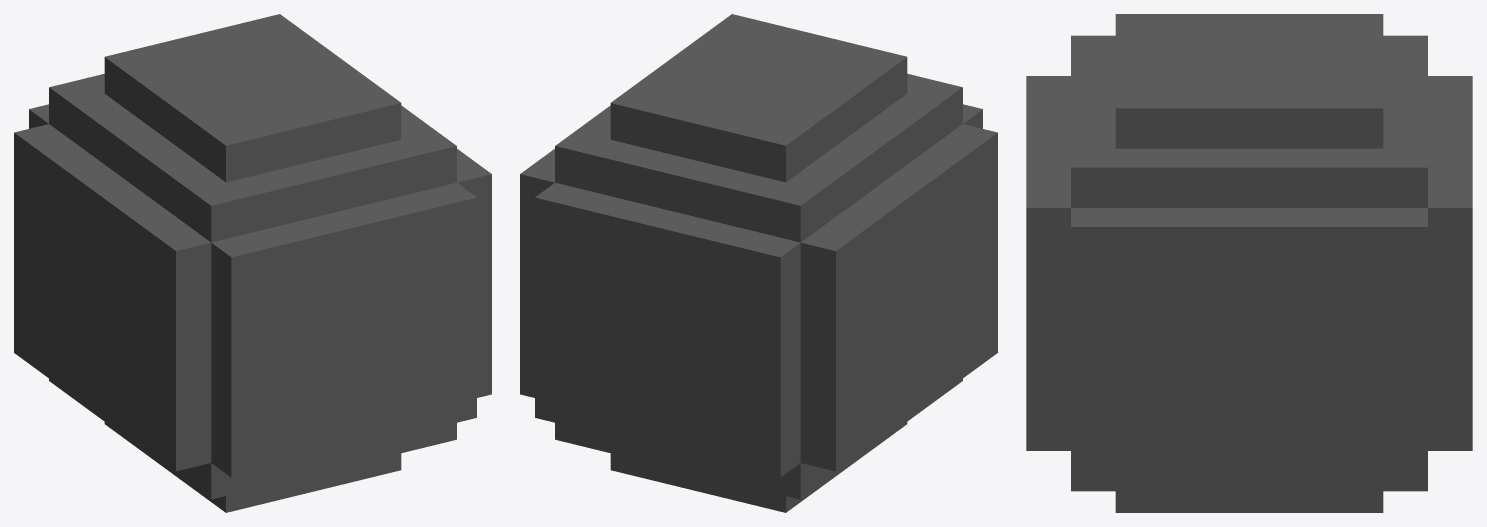
Rendered from alien_egg1.obj.
The picture shows the model from 3 angles, left to right: view 1: azimuth 30°, elevation 25°; view 2: azimuth 150°, elevation 25°; view 3: azimuth 270°, elevation 25°; orthographic projection. The views are drawn at different scales.
Size of the model in its own units: 9 by 10 by 10.
